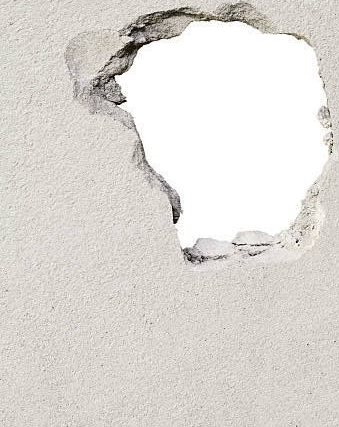Spalling: (90, 1, 334, 267)
